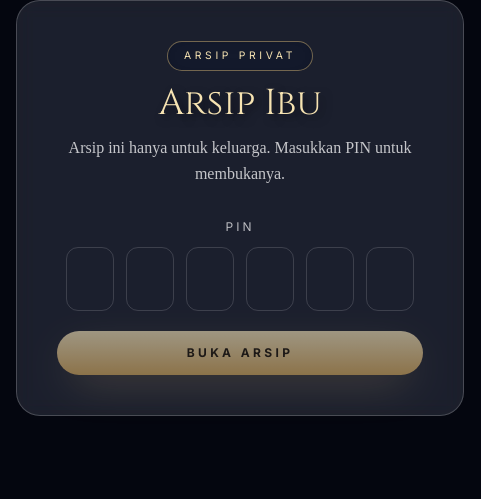
Test: ArchivePinGate (six-digit) › shows a network message when the request fails
In the password field named "Digit PIN ke-1": x=90, y=279 left=66, top=247, right=114, bottom=311, type "1"
In the password field named "Digit PIN ke-2": x=150, y=279 left=126, top=247, right=174, bottom=311, type "3"
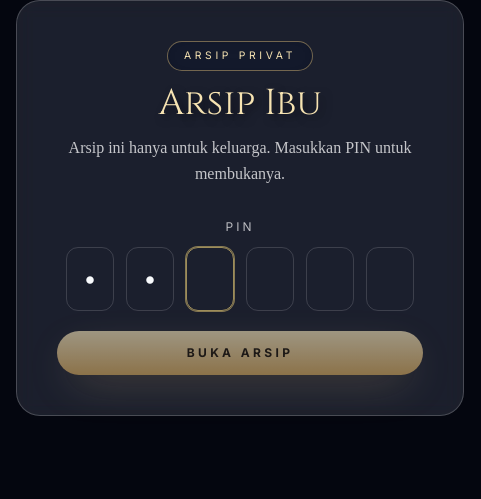
In the password field named "Digit PIN ke-3": x=210, y=279 left=186, top=247, right=234, bottom=311, type "5"
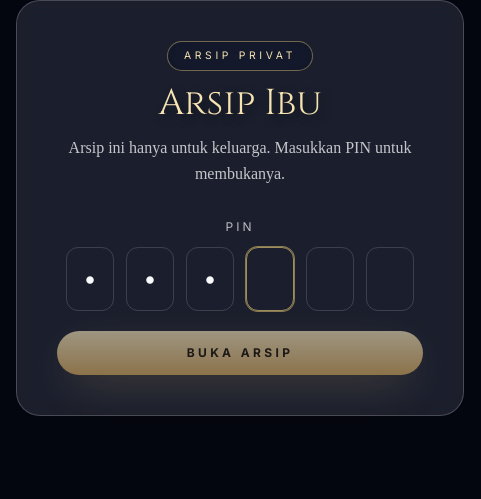
In the password field named "Digit PIN ke-4": x=270, y=279 left=246, top=247, right=294, bottom=311, type "7"
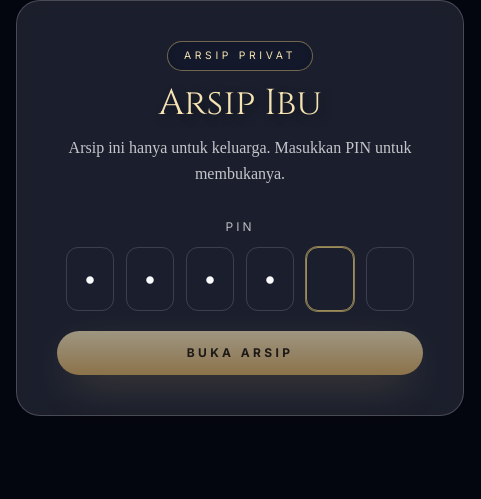
In the password field named "Digit PIN ke-5": x=330, y=279 left=306, top=247, right=354, bottom=311, type "9"
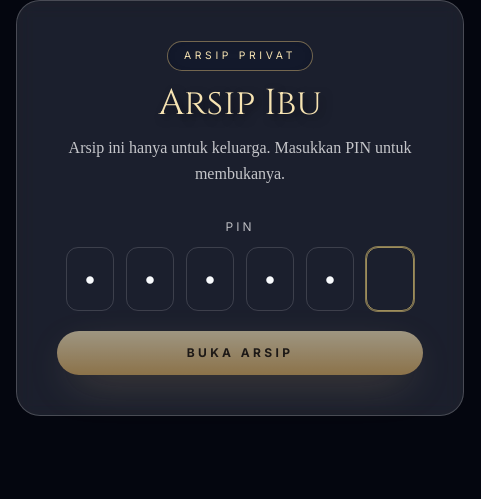
In the password field named "Digit PIN ke-6": x=390, y=279 left=366, top=247, right=414, bottom=311, type "0"
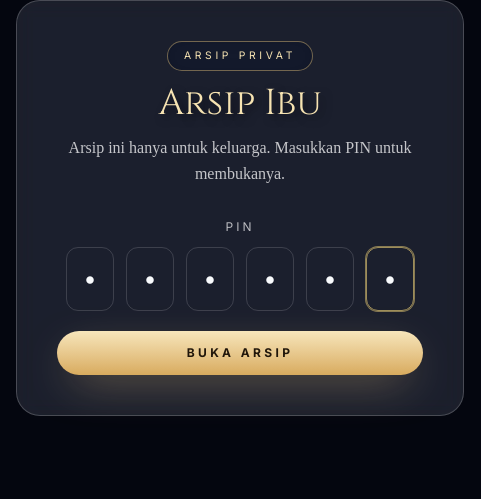
Click the button "Buka Arsip": x=240, y=353 left=57, top=331, right=423, bottom=375
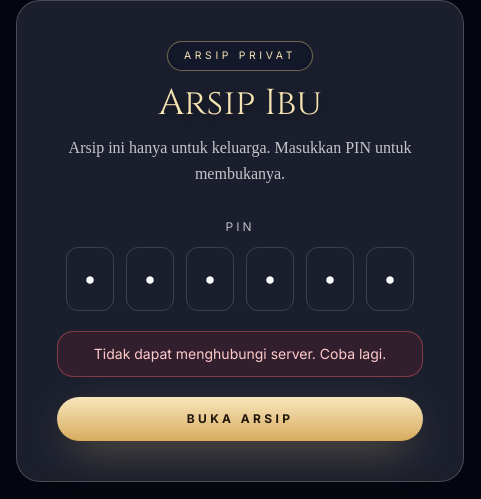
Result: the message reads "Tidak dapat menghubungi server. Coba lagi." at left=94, top=345, right=386, bottom=362
